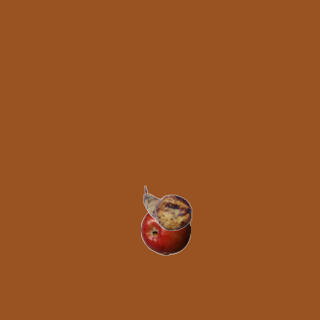Apple Braeburn: (140, 205, 190, 255)
Pear Abate: (142, 183, 192, 233)
